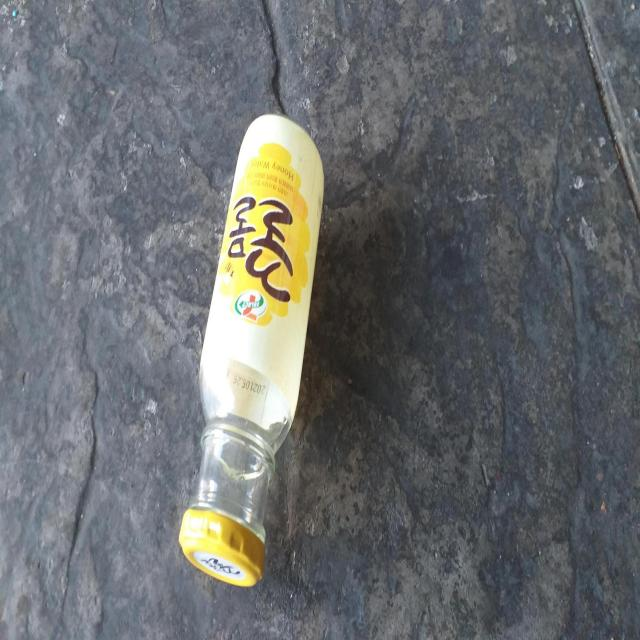glass: (179, 113, 323, 586)
